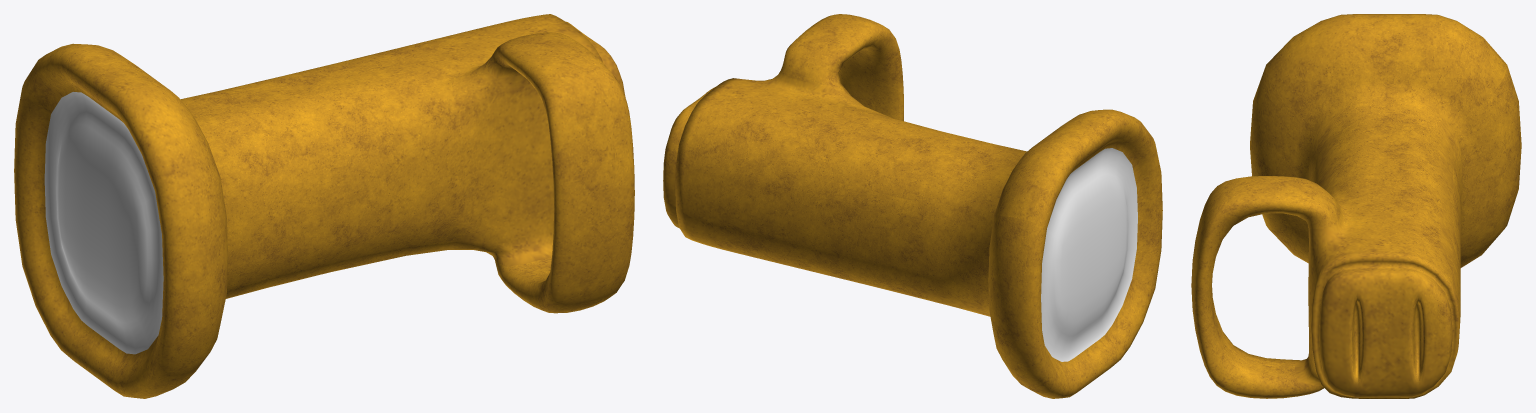
File: Linterna.fbx
3 renders of one model, left to right at view 1: azimuth 30°, elevation 25°; view 2: azimuth 150°, elevation 25°; view 3: azimuth 270°, elevation 25°, orthographic. The views are drawn at different scales.
Parts seen in each view (by area): view 1: Linterna.001; view 2: Linterna.001; view 3: Linterna.001.
Part boxes in pixels (left/top/right/bottom): Linterna.001: left=14, top=14, right=634, bottom=398; Linterna.001: left=663, top=14, right=1162, bottom=398; Linterna.001: left=1191, top=14, right=1521, bottom=398.
Size of the model in its own units: 87.61 by 51.3 by 60.11.
